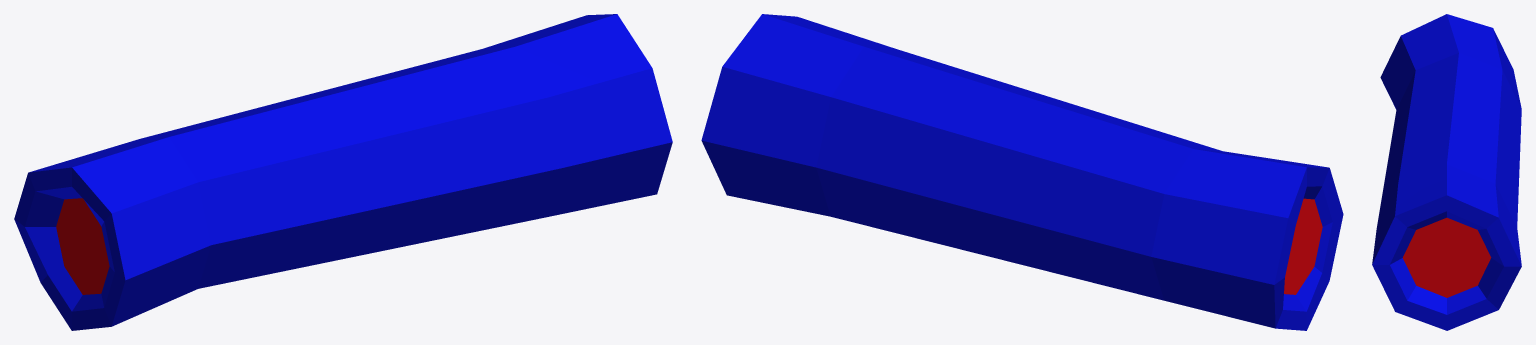
File: SM_Short_Log5.fbx
The picture shows the model from 3 angles, left to right: view 1: azimuth 30°, elevation 25°; view 2: azimuth 150°, elevation 25°; view 3: azimuth 270°, elevation 25°; orthographic projection. The views are drawn at different scales.
Visible parts, largest first — view 1: SM_Short_Log5; view 2: SM_Short_Log5; view 3: SM_Short_Log5.
Boxes of the visible parts, box(x1,y1,x2,y2) form: SM_Short_Log5: box(14, 14, 672, 330); SM_Short_Log5: box(701, 14, 1343, 330); SM_Short_Log5: box(1372, 14, 1521, 330).
Size of the model in its own units: 74.87 by 23.19 by 23.19.
